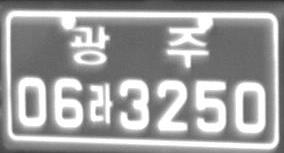0: (233, 81, 267, 135), (16, 76, 48, 128)
2: (154, 78, 190, 133)
3: (117, 78, 151, 131)
5: (194, 78, 227, 133)
6: (53, 76, 84, 129)
광주_D: (69, 25, 209, 68)
라: (87, 82, 114, 125)
